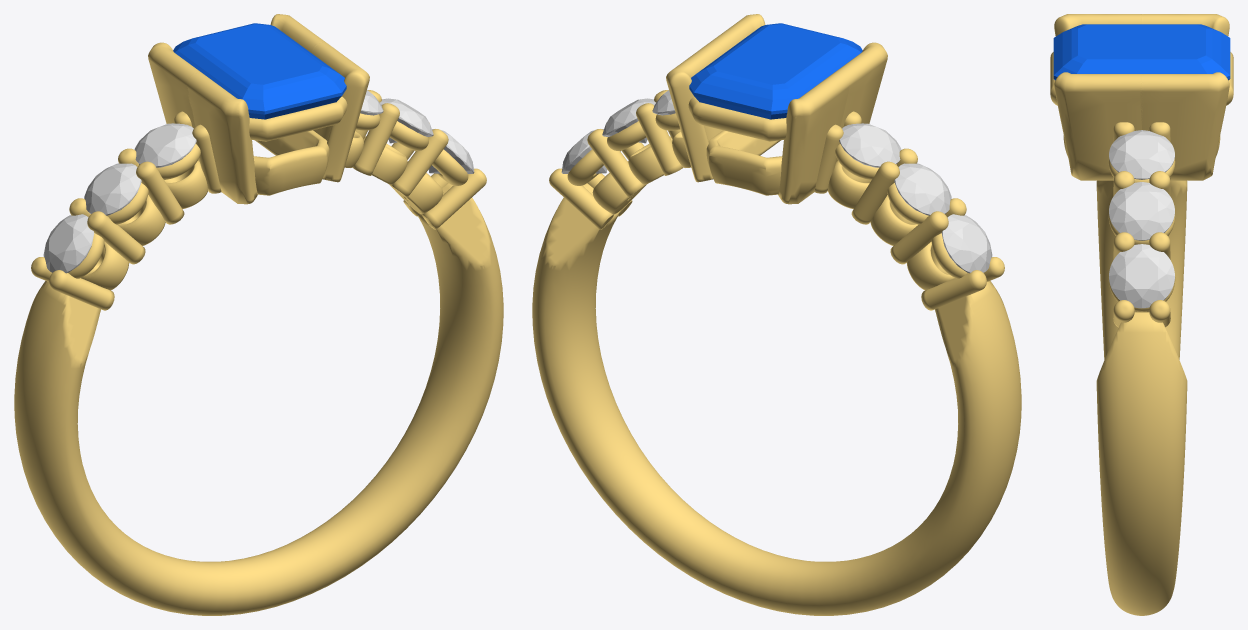
The model's file is bluesapphire-emerald-yellowgold-halfmoonbezel-taperedband-7stone.glb.
The picture shows the model from 3 angles, left to right: view 1: azimuth 30°, elevation 25°; view 2: azimuth 150°, elevation 25°; view 3: azimuth 270°, elevation 25°; orthographic projection.
Visible parts, largest first — view 1: metal.003, stone.002, side.012, side.013, side.014, side.016; view 2: metal.003, stone.002, side.012, side.013, side.014, side.016; view 3: metal.003, stone.002, side.017, side.016, side.015.
Boxes of the visible parts, bbox=[...] form: metal.003: bbox=[14, 14, 503, 615]; stone.002: bbox=[173, 23, 346, 119]; side.012: bbox=[43, 214, 94, 273]; side.013: bbox=[84, 163, 141, 215]; side.014: bbox=[134, 123, 196, 167]; side.016: bbox=[380, 98, 433, 143]; metal.003: bbox=[532, 14, 1021, 615]; stone.002: bbox=[689, 23, 862, 119]; side.012: bbox=[941, 214, 992, 273]; side.013: bbox=[894, 163, 951, 215]; side.014: bbox=[839, 123, 901, 167]; side.016: bbox=[602, 98, 655, 143]; metal.003: bbox=[1050, 14, 1233, 615]; stone.002: bbox=[1053, 24, 1230, 80]; side.017: bbox=[1109, 244, 1174, 308]; side.016: bbox=[1109, 182, 1174, 240]; side.015: bbox=[1109, 130, 1174, 179].
Size of the model in its own units: 20.49 by 22.94 by 6.94.
